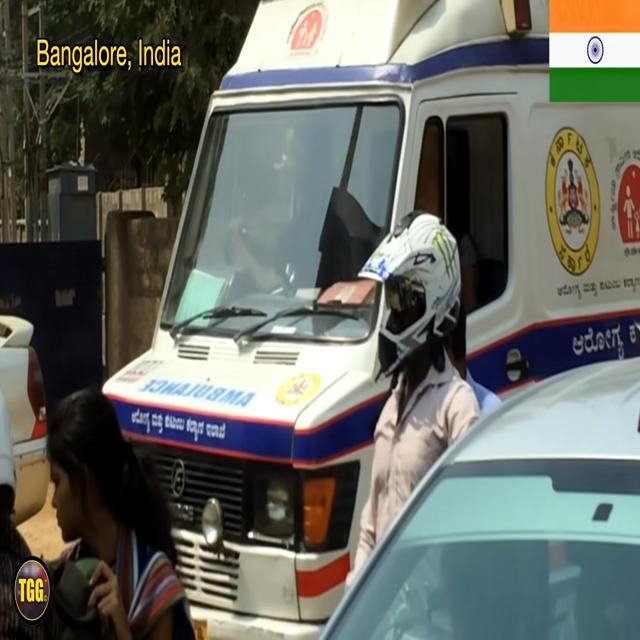emergency-vehicles: (100, 0, 640, 636)
